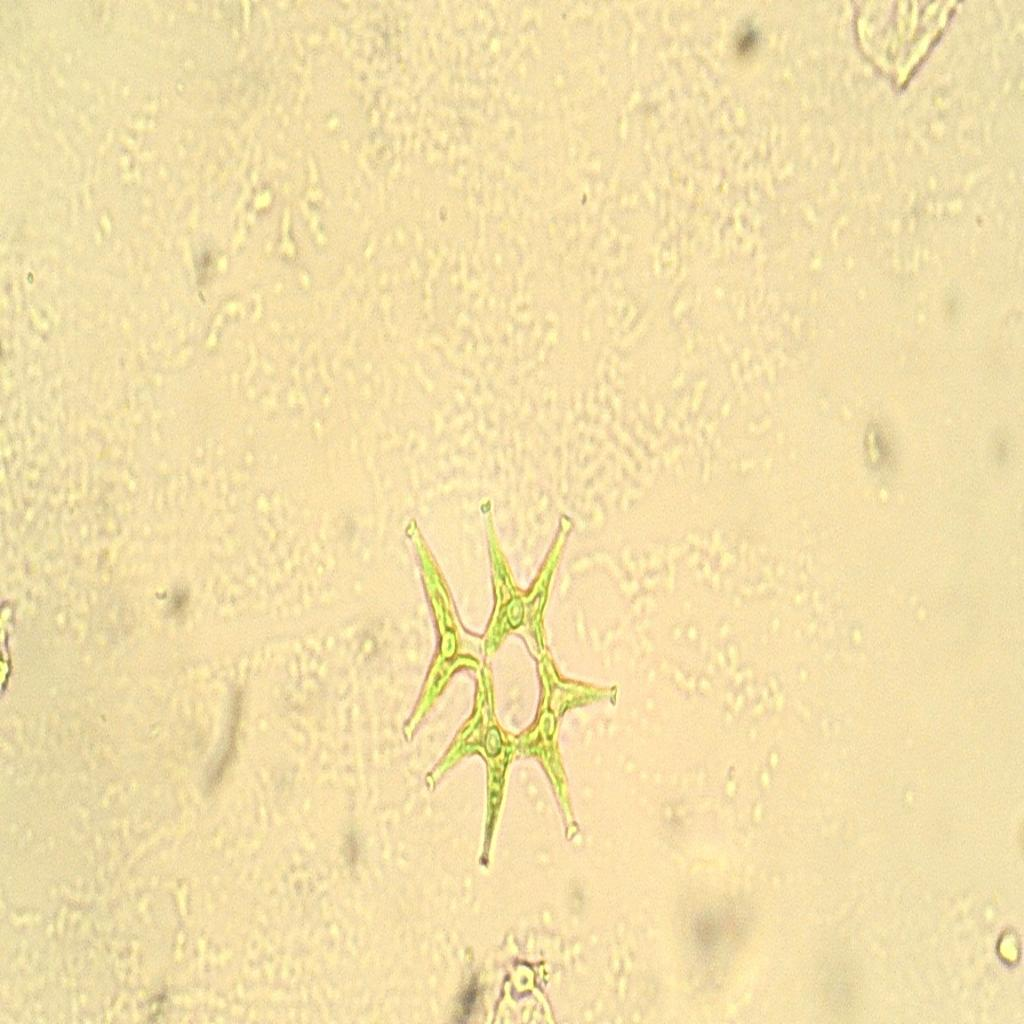Pediastrum_CT: (372, 490, 636, 889)
